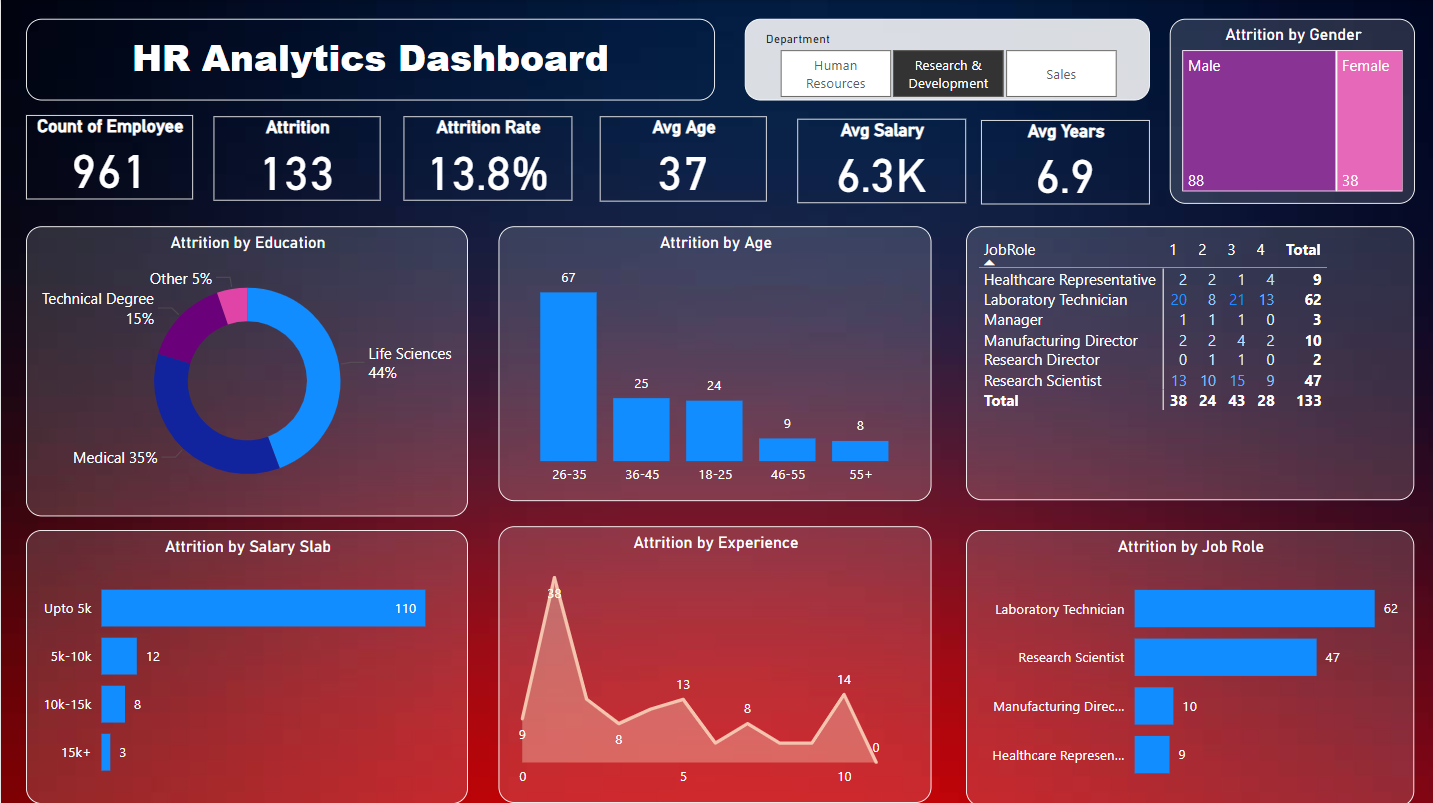

This screenshot's page, from the dashboard's own definition file:
{"tool":"powerbi","page":{"name":"Page 1","canvas":[1280,720],"ordinal":0},"visuals":[{"type":"card","title":"Count of Employee","fields":{"Values":["CountNonNull(HR_Analytics.EmpID)"]},"box":[21.9,102.7,148.8,75.1],"z":0},{"type":"card","title":"Attrition","fields":{"Values":["Sum(HR_Analytics.AttritionCount)"]},"box":[189.1,104,148.8,75.1],"z":1000},{"type":"card","title":"Attrition Rate","fields":{"Values":["HR_Analytics.AttritionRate"]},"box":[359,104,150.1,75.1],"z":2000},{"type":"card","title":"Avg Age","fields":{"Values":["Avg(HR_Analytics.Age)"]},"box":[532.8,104,148.8,76.4],"z":3000},{"type":"card","title":"Avg Salary","fields":{"Values":["Avg(HR_Analytics.MonthlyIncome)"]},"box":[709.3,105.3,150.1,75.1],"z":4000},{"type":"card","title":"Avg Years","fields":{"Values":["Avg(HR_Analytics.YearsAtCompany)"]},"box":[872.6,106.7,150.1,75.1],"z":5000},{"type":"donutChart","title":"Attrition by Education","fields":{"Category":["HR_Analytics.EducationField"],"Y":["Sum(HR_Analytics.AttritionCount)"]},"box":[21.9,201.5,393.7,258.1],"z":6000},{"type":"columnChart","title":"Attrition by Age","fields":{"Category":["HR_Analytics.AgeGroup"],"Y":["Sum(HR_Analytics.AttritionCount)"]},"box":[443.3,201.5,385.8,244.9],"z":7000},{"type":"pivotTable","fields":{"Rows":["HR_Analytics.JobRole"],"Columns":["HR_Analytics.JobSatisfaction"],"Values":["Sum(HR_Analytics.AttritionCount)"]},"box":[859.4,201.5,399,243.6],"z":8000},{"type":"barChart","title":"Attrition by Age","fields":{"Category":["HR_Analytics.SalarySlab"],"Y":["Sum(HR_Analytics.AttritionCount)"]},"box":[21.9,471.4,393.7,243.6],"z":9000},{"type":"barChart","title":"Attrition by Age","fields":{"Category":["HR_Analytics.JobRole"],"Y":["Sum(HR_Analytics.AttritionCount)"]},"box":[859.4,471.4,399,246.3],"z":10000},{"type":"areaChart","title":"Attrition by Age","fields":{"Category":["HR_Analytics.YearsAtCompany"],"Y":["Sum(HR_Analytics.AttritionCount)"]},"box":[443.3,468.8,385.8,246.3],"z":11000},{"type":"treemap","title":"Attrition by Age","fields":{"Group":["HR_Analytics.Gender"],"Values":["Sum(HR_Analytics.AttritionCount)"]},"box":[1040.3,17.1,218.6,164.6],"z":12000},{"type":"slicer","fields":{"Values":["HR_Analytics.Department"]},"box":[662.4,17.1,360.8,72.4],"z":13000},{"type":"textbox","box":[22.4,17.1,613.7,72.4],"z":13001}]}

Visuals, with their boxes in screenshot pixels (x1, y1, x2, y2), scaled from the page's 1280x720 canvas onto the 1433x803 screenshot:
"Count of Employee" card: (25,115,191,198)
"Attrition" card: (212,116,378,200)
"Attrition Rate" card: (402,116,570,200)
"Avg Age" card: (596,116,763,201)
"Avg Salary" card: (794,117,962,201)
"Avg Years" card: (977,119,1145,203)
"Attrition by Education" donutChart: (25,225,465,513)
"Attrition by Age" columnChart: (496,225,928,498)
pivotTable - HR_Analytics.JobRole x HR_Analytics.JobSatisfaction: (962,225,1409,496)
"Attrition by Age" barChart: (25,526,465,797)
"Attrition by Age" barChart: (962,526,1409,800)
"Attrition by Age" areaChart: (496,523,928,798)
"Attrition by Age" treemap: (1165,19,1409,203)
slicer - HR_Analytics.Department: (742,19,1146,100)
textbox: (25,19,712,100)
